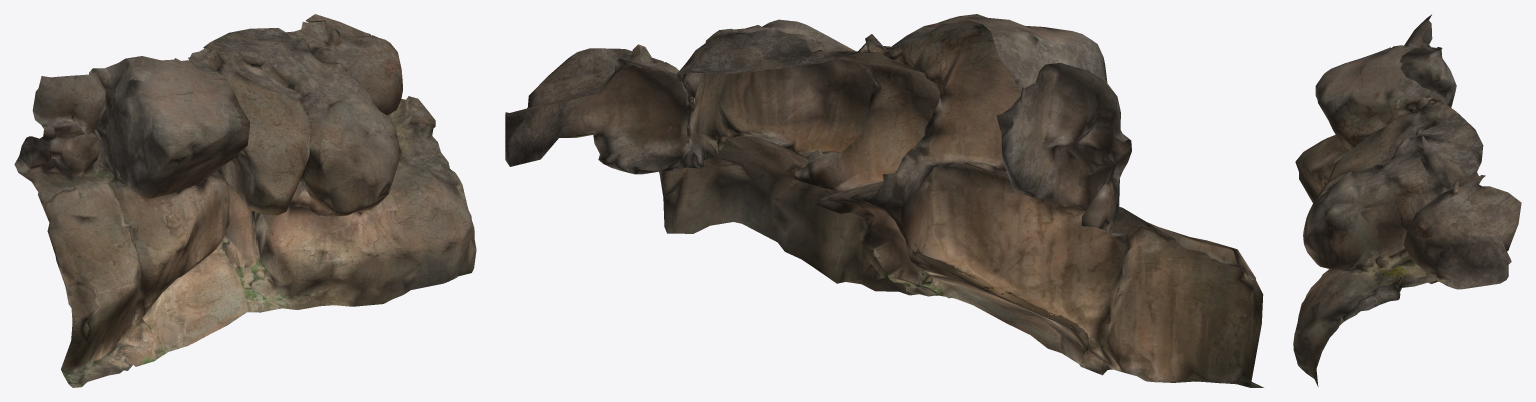
Rendered from cliff_01.glb.
3 renders of one model, left to right at view 1: azimuth 30°, elevation 25°; view 2: azimuth 150°, elevation 25°; view 3: azimuth 270°, elevation 25°, orthographic. The views are drawn at different scales.
Visible parts, largest first — view 1: drone_rock_01; view 2: drone_rock_01; view 3: drone_rock_01.
Part boxes in pixels (left/top/right/bottom): drone_rock_01: left=14, top=14, right=476, bottom=387; drone_rock_01: left=505, top=14, right=1263, bottom=387; drone_rock_01: left=1293, top=14, right=1521, bottom=386.
Size of the model in its own units: 8.28 by 4.96 by 4.38.
Materials: 1 (1 with a texture image).
